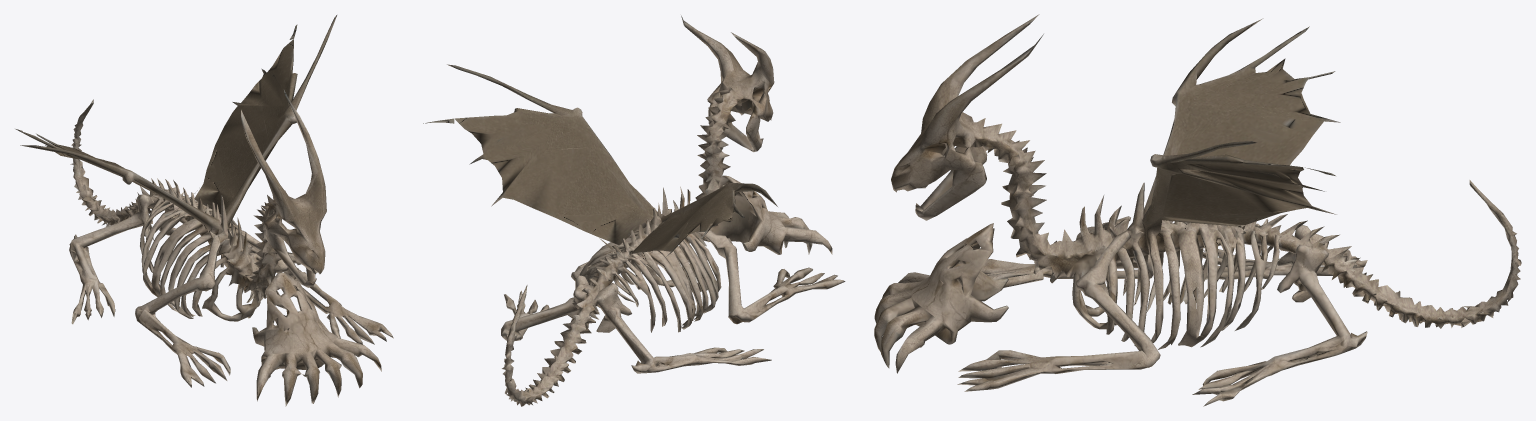
File: prp_lm_dragon_skeleton.glb
The picture shows the model from 3 angles, left to right: view 1: azimuth 30°, elevation 25°; view 2: azimuth 150°, elevation 25°; view 3: azimuth 270°, elevation 25°; orthographic projection. The views are drawn at different scales.
Parts seen in each view (by area): view 1: prp_lm_dragon_skeleton; view 2: prp_lm_dragon_skeleton; view 3: prp_lm_dragon_skeleton.
Part boxes in pixels (x1=…): prp_lm_dragon_skeleton: x1=15, y1=15, x2=393, y2=406; prp_lm_dragon_skeleton: x1=423, y1=15, x2=845, y2=406; prp_lm_dragon_skeleton: x1=874, y1=14, x2=1521, y2=406.
Size of the model in its own units: 12.73 by 10 by 17.81.
1 material, 1 textured.
